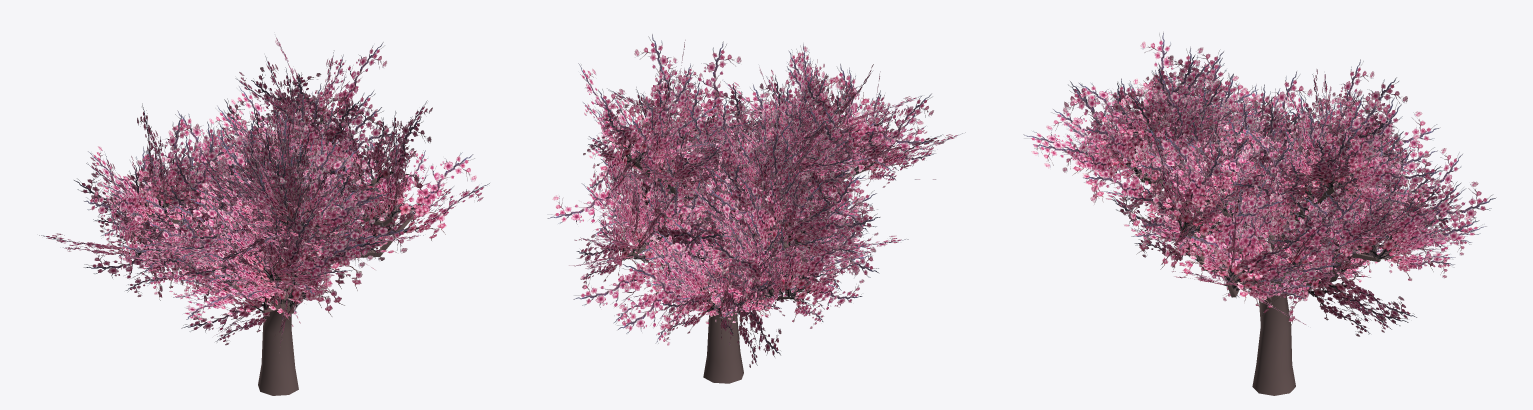
File: treeSakuraLOD.fbx
3 views of the same model, side by side, from view 1: azimuth 30°, elevation 25°; view 2: azimuth 150°, elevation 25°; view 3: azimuth 270°, elevation 25° (orthographic). The views are drawn at different scales.
Visible parts, largest first — view 1: SakuraUltra, SakuraUltra|Plane|Dupli|102, SakuraMid|Plane.002|Dupli|29, SakuraUltra|Plane|Dupli|8, SakuraLow|Plane.001|Dupli|29, SakuraUltra|Plane|Dupli|6, SakuraMid|Plane.002|Dupli|60, SakuraMid|Plane.002|Dupli|12, SakuraUltra|Plane|Dupli|60, SakuraUltra|Plane|Dupli|153, SakuraMid|Plane.002|Dupli|3, SakuraUltra|Plane|Dupli|75 (+59 smaller); view 2: SakuraUltra, SakuraUltra|Plane|Dupli|185, SakuraUltra|Plane|Dupli|6, SakuraUltra|Plane|Dupli|23, SakuraUltra|Plane|Dupli|71, SakuraMid|Plane.002|Dupli|69, SakuraUltra|Plane|Dupli|50, SakuraUltra|Plane|Dupli|8, SakuraUltra|Plane|Dupli|59, SakuraUltra|Plane|Dupli|9, SakuraMid|Plane.002|Dupli|68, SakuraUltra|Plane|Dupli|104 (+79 smaller); view 3: SakuraUltra, SakuraUltra|Plane|Dupli|27, SakuraMid|Plane.002|Dupli|77, SakuraLow|Plane.001|Dupli|24, SakuraUltra|Plane|Dupli|60, SakuraUltra|Plane|Dupli|92, SakuraUltra|Plane|Dupli|24, SakuraMid|Plane.002|Dupli|54, SakuraUltra|Plane|Dupli|90, SakuraUltra|Plane|Dupli|87, SakuraUltra|Plane|Dupli|75, SakuraUltra|Plane|Dupli|99 (+71 smaller).
Part boxes in pixels (x1,y1,x2,y2): SakuraUltra: (135,178,413,395); SakuraUltra|Plane|Dupli|102: (389,150,476,234); SakuraMid|Plane.002|Dupli|29: (300,173,389,258); SakuraUltra|Plane|Dupli|8: (137,114,210,213); SakuraLow|Plane.001|Dupli|29: (273,223,367,307); SakuraUltra|Plane|Dupli|6: (84,165,157,245); SakuraMid|Plane.002|Dupli|60: (258,214,324,290); SakuraMid|Plane.002|Dupli|12: (315,42,386,126); SakuraUltra|Plane|Dupli|60: (365,116,431,192); SakuraUltra|Plane|Dupli|153: (181,283,275,345); SakuraMid|Plane.002|Dupli|3: (155,142,237,207); SakuraUltra|Plane|Dupli|75: (302,220,386,288); SakuraUltra: (627,139,866,383); SakuraUltra|Plane|Dupli|185: (622,247,716,335); SakuraUltra|Plane|Dupli|6: (789,194,880,264); SakuraUltra|Plane|Dupli|23: (624,69,696,163); SakuraUltra|Plane|Dupli|71: (573,238,665,328); SakuraMid|Plane.002|Dupli|69: (785,219,864,296); SakuraUltra|Plane|Dupli|50: (837,92,932,179); SakuraUltra|Plane|Dupli|8: (746,139,808,238); SakuraUltra|Plane|Dupli|59: (627,34,702,122); SakuraUltra|Plane|Dupli|9: (736,176,787,256); SakuraMid|Plane.002|Dupli|68: (788,262,864,328); SakuraUltra|Plane|Dupli|104: (672,41,749,139); SakuraUltra: (1132,165,1388,395); SakuraUltra|Plane|Dupli|27: (1320,100,1402,194); SakuraMid|Plane.002|Dupli|77: (1275,188,1364,273); SakuraLow|Plane.001|Dupli|24: (1232,234,1340,308); SakuraUltra|Plane|Dupli|60: (1155,134,1236,221); SakuraUltra|Plane|Dupli|92: (1381,201,1479,280); SakuraUltra|Plane|Dupli|24: (1342,140,1444,215); SakuraMid|Plane.002|Dupli|54: (1150,146,1242,232); SakuraUltra|Plane|Dupli|90: (1375,179,1461,258); SakuraUltra|Plane|Dupli|87: (1312,191,1392,262); SakuraUltra|Plane|Dupli|75: (1083,142,1163,232); SakuraUltra|Plane|Dupli|99: (1208,180,1284,280).
Size of the model in its own units: 1601 by 1280 by 1761.
